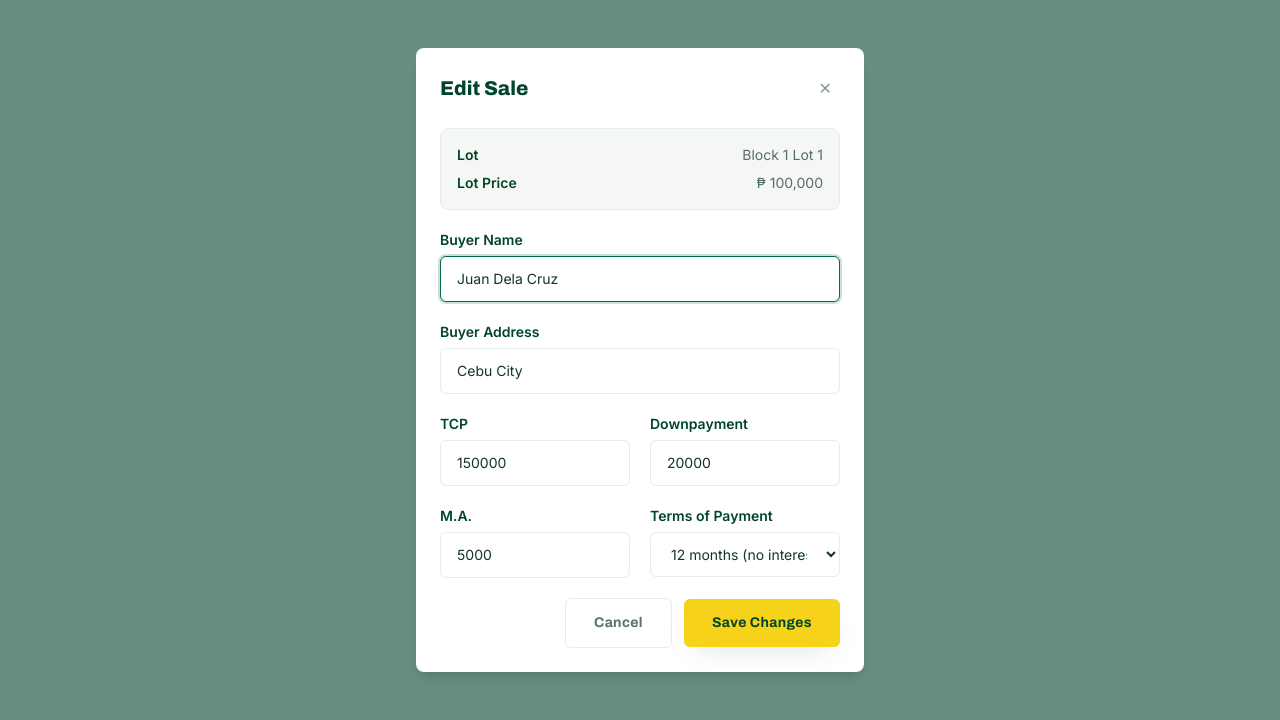
Test case: SaleDetailsModal › requires a buyer name before saving
Clear the field labelled "Buyer Name": coordinates (640, 279) x1=440 y1=256 x2=840 y2=302
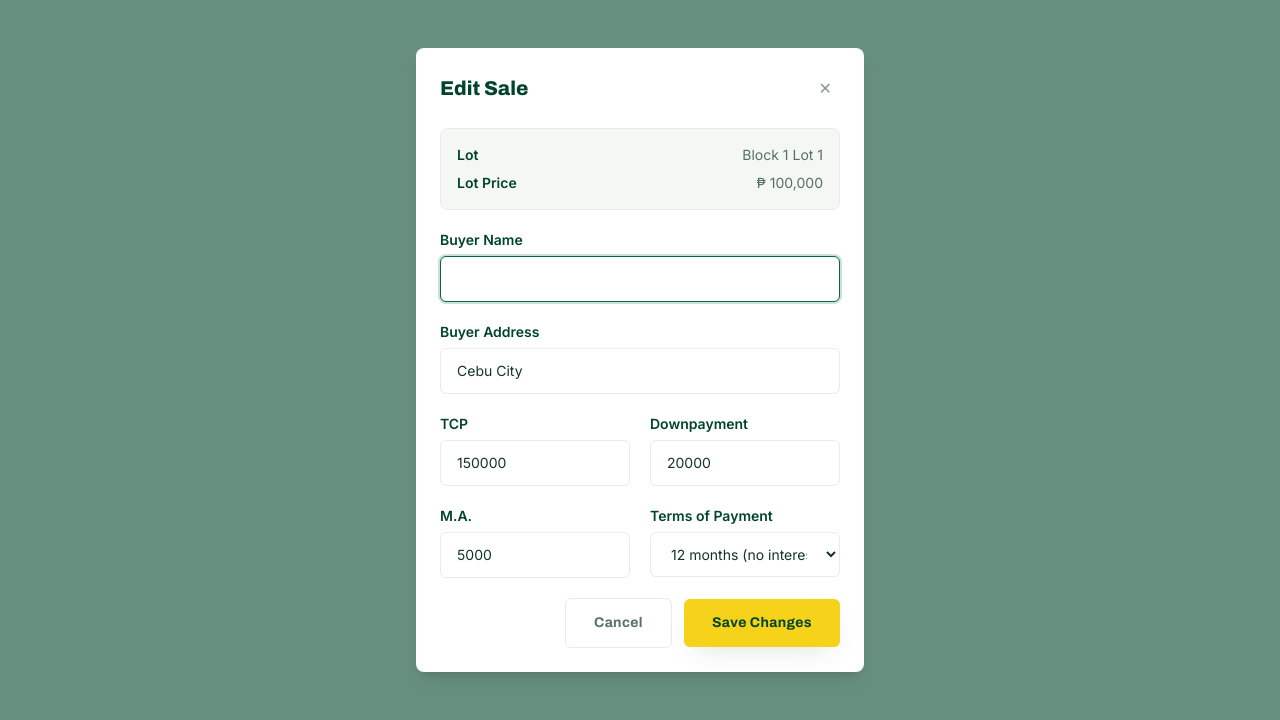
Click the button "Save Changes": coordinates (762, 623) x1=684 y1=599 x2=840 y2=647
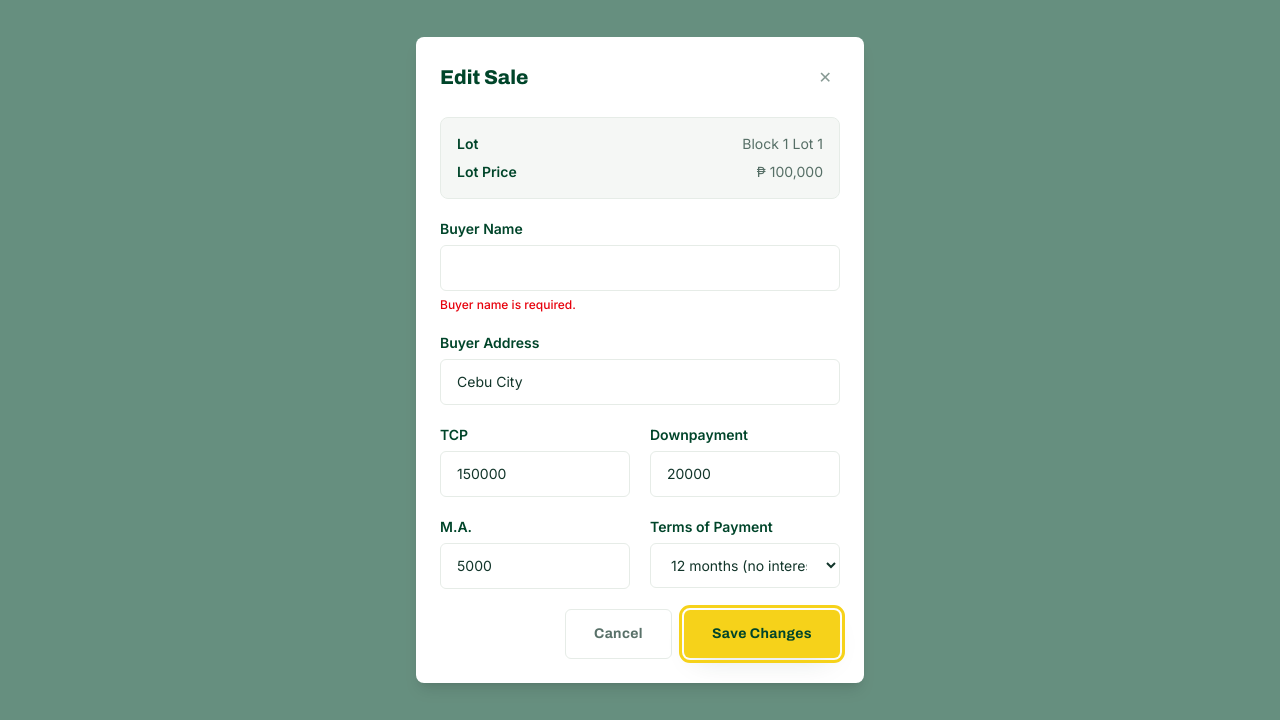
Result: the text "Buyer name is required." is shown at x1=440 y1=297 x2=576 y2=312
